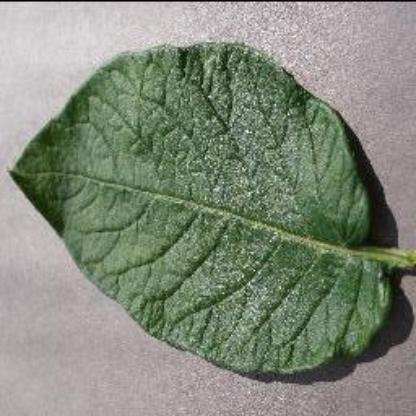Healthy-plant: (10, 36, 408, 398)
